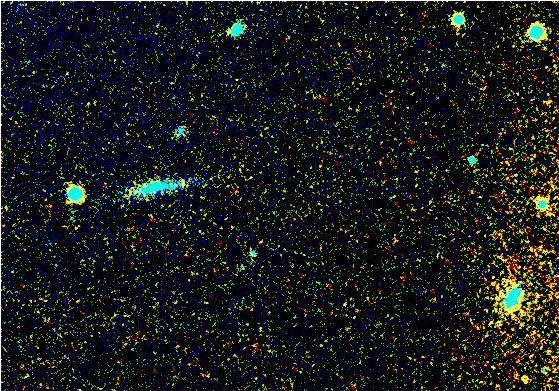star: (508, 362, 538, 391)
